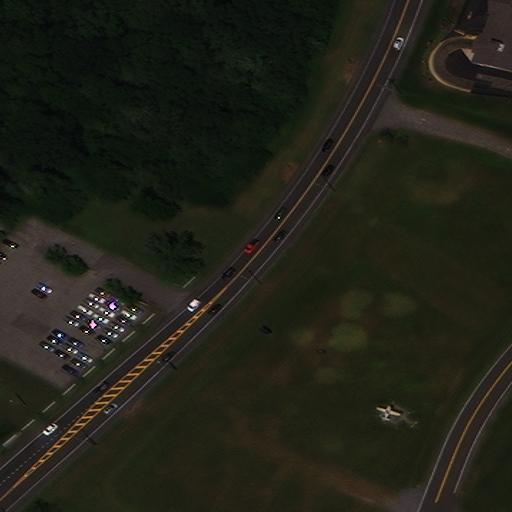Small Civil Transport: (377, 404, 401, 421)
